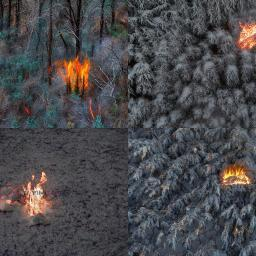Small fire: (43, 51, 110, 127), (2, 173, 56, 222), (215, 158, 254, 202), (227, 16, 256, 58)
